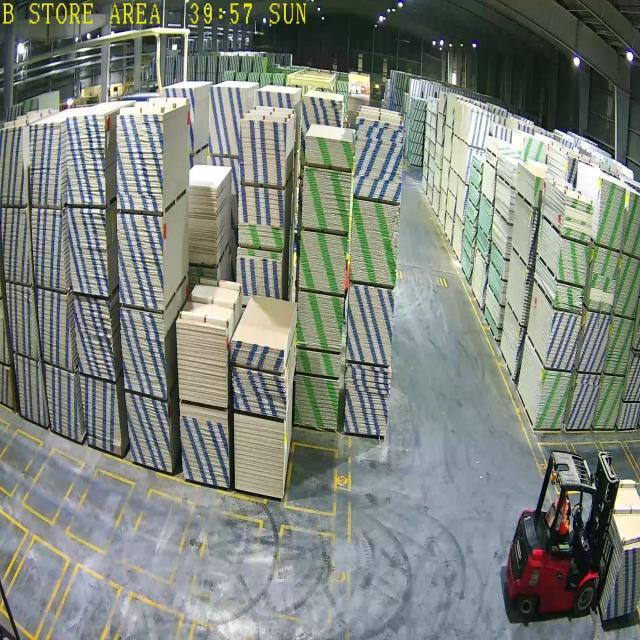material_stack: (350, 199, 400, 285), (354, 117, 404, 202), (234, 413, 284, 498), (347, 283, 395, 365), (344, 365, 391, 436), (302, 167, 351, 231), (299, 231, 348, 293), (296, 292, 343, 351), (232, 368, 286, 419), (295, 374, 339, 429), (534, 371, 571, 429), (545, 311, 581, 370), (596, 179, 626, 249), (588, 247, 619, 313), (578, 312, 611, 373), (567, 374, 601, 428), (230, 340, 284, 373), (605, 317, 635, 374), (593, 375, 624, 429), (615, 255, 640, 317), (305, 136, 353, 168), (562, 195, 594, 242), (557, 239, 589, 285), (296, 349, 341, 378), (623, 192, 640, 257), (554, 284, 584, 311)
